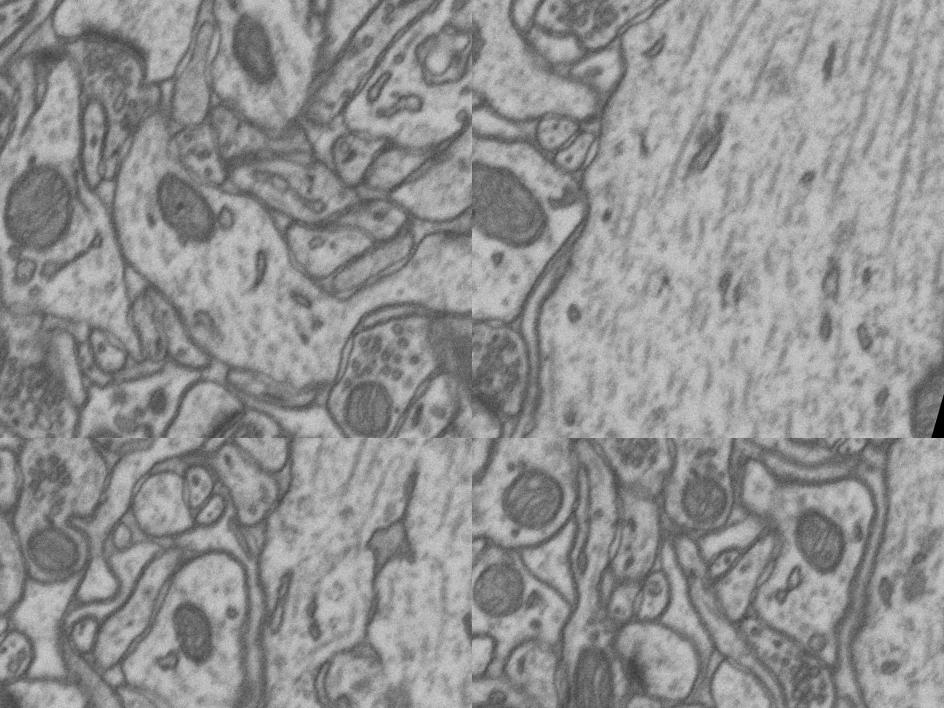mitochondria: (858, 221, 944, 438), (472, 145, 578, 272), (0, 143, 92, 276), (135, 157, 239, 261), (773, 497, 872, 605), (531, 628, 663, 708), (484, 440, 583, 542), (205, 0, 303, 103), (152, 590, 236, 684), (472, 540, 547, 643), (5, 509, 96, 592), (655, 455, 747, 536), (321, 366, 411, 438), (472, 652, 550, 708), (436, 338, 472, 438), (0, 300, 29, 398), (0, 59, 24, 165)
